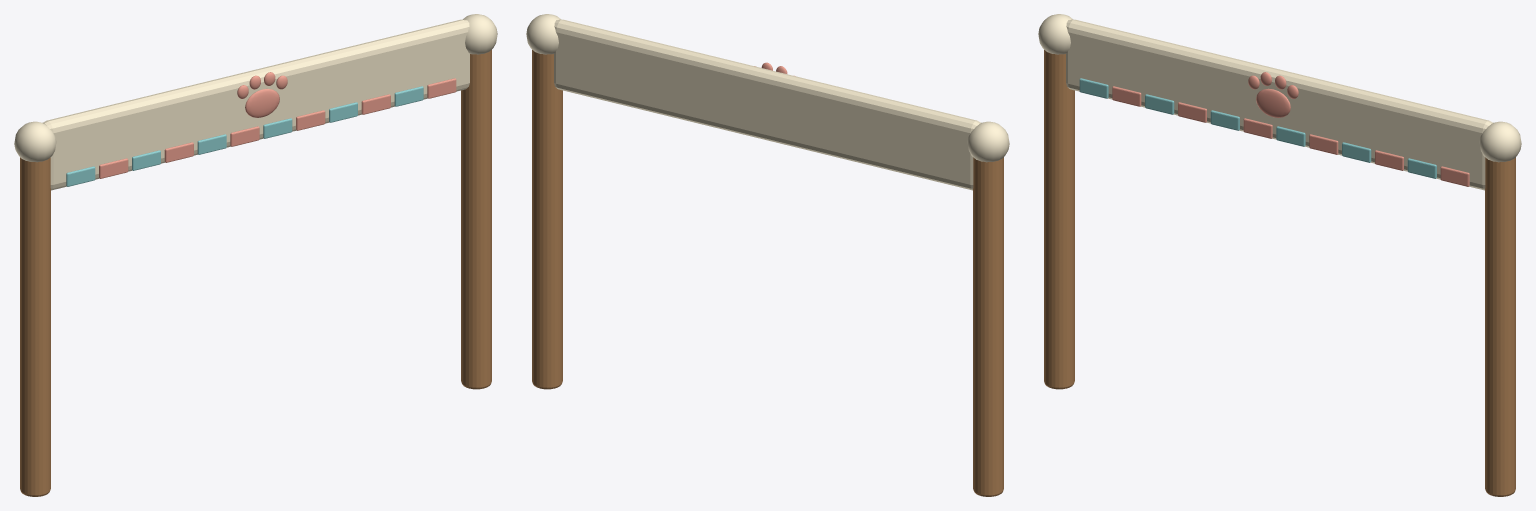
The model's file is finish_arch.glb.
The picture shows the model from 3 angles, left to right: view 1: azimuth 30°, elevation 25°; view 2: azimuth 150°, elevation 25°; view 3: azimuth 330°, elevation 25°; orthographic projection.
Parts seen in each view (by area): view 1: finish_arch_Mesh; view 2: finish_arch_Mesh; view 3: finish_arch_Mesh.
Boxes of the visible parts, x1,y1,x2,y2 form: finish_arch_Mesh: [14, 14, 497, 496]; finish_arch_Mesh: [526, 14, 1009, 496]; finish_arch_Mesh: [1038, 14, 1521, 496].
Bounding box in the file's own units: 4.66 × 3.43 × 0.36.
